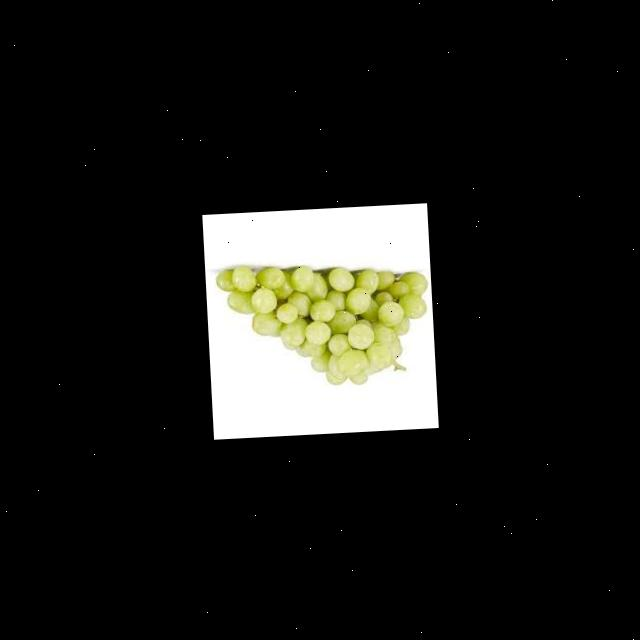grape: (213, 256, 432, 392)
